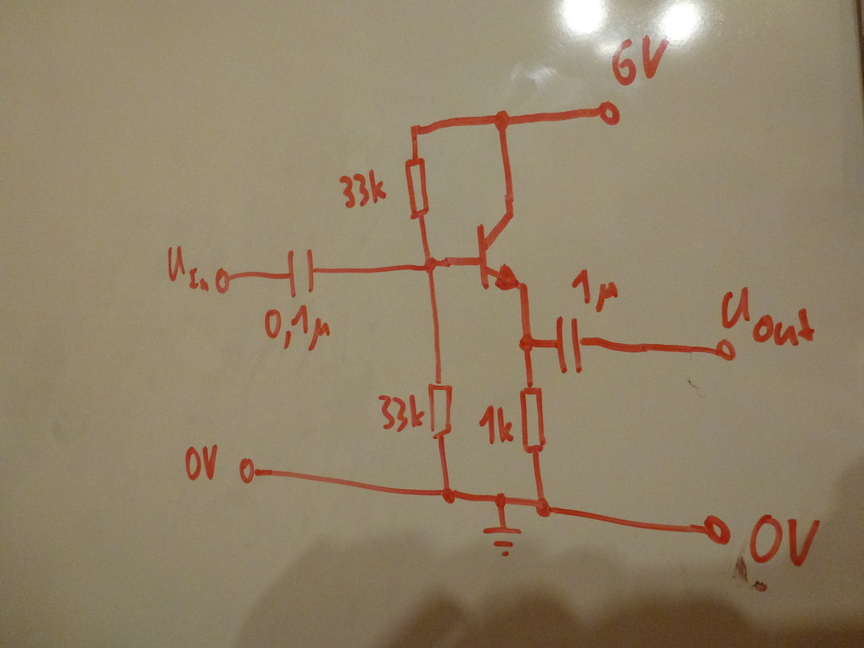capacitor.unpolarized: (547, 312, 597, 379), (276, 246, 328, 299)
gnd: (481, 518, 528, 563)
junction: (485, 107, 520, 134), (417, 252, 444, 280), (530, 493, 556, 521), (513, 330, 539, 356), (435, 485, 461, 509), (406, 118, 427, 142), (488, 489, 511, 510)
resistor: (517, 377, 555, 462), (400, 153, 439, 227), (423, 377, 458, 446)
terminal: (697, 510, 737, 550), (592, 93, 630, 132), (709, 335, 741, 366), (212, 263, 239, 299), (236, 454, 263, 488)
text: (719, 283, 820, 351), (745, 510, 826, 576), (262, 301, 335, 353), (609, 33, 671, 88), (565, 266, 626, 314), (162, 243, 211, 295), (337, 166, 391, 211), (374, 390, 427, 435), (473, 402, 519, 450), (181, 441, 224, 483)
transistor: (464, 204, 536, 300)
